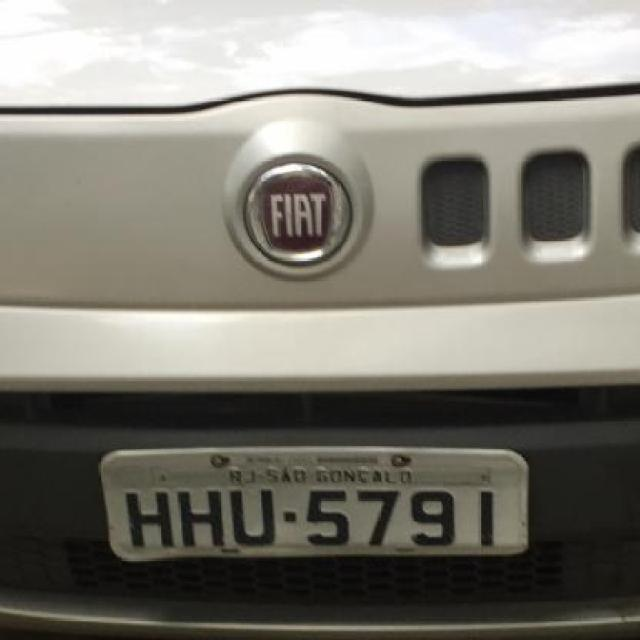old_plate: (87, 442, 537, 565)
